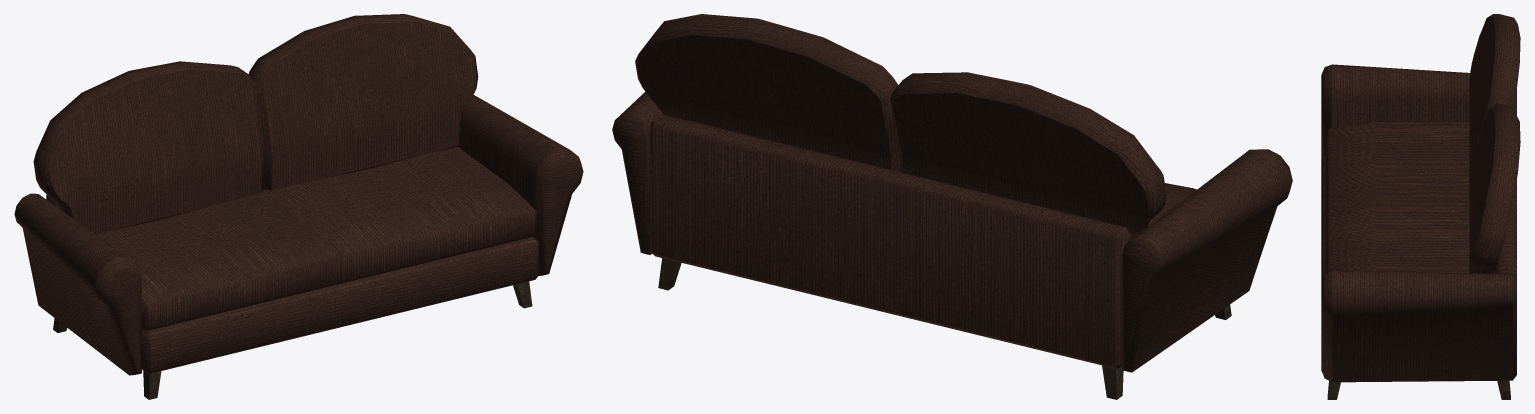
The model's file is sofa_2.glb.
The picture shows the model from 3 angles, left to right: view 1: azimuth 30°, elevation 25°; view 2: azimuth 150°, elevation 25°; view 3: azimuth 270°, elevation 25°; orthographic projection. The views are drawn at different scales.
Parts seen in each view (by area): view 1: sofa_2; view 2: sofa_2; view 3: sofa_2.
Part boxes in pixels (x1,y1,x2,y2): sofa_2: [14, 14, 583, 399]; sofa_2: [612, 14, 1292, 399]; sofa_2: [1321, 14, 1520, 399].
Bounding box in the file's own units: 2.47 × 1.17 × 0.9157.
2 materials, 2 textured.
